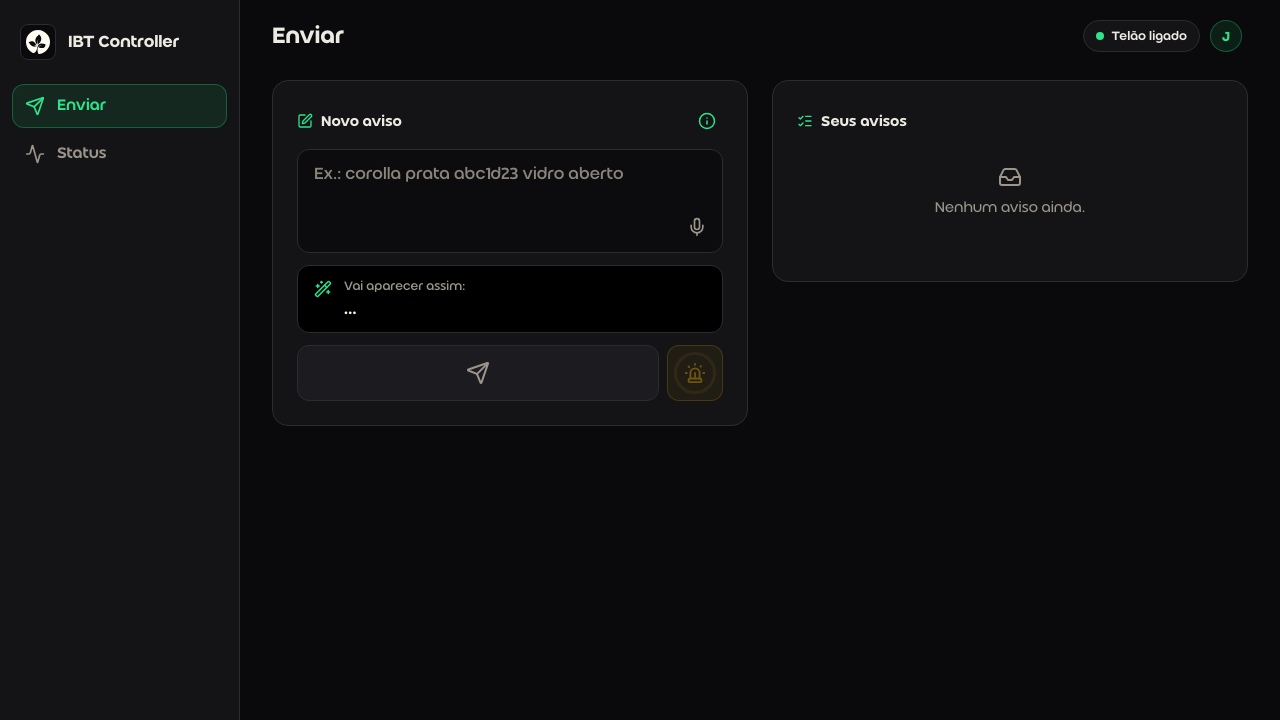
Test: Shell › Esc fecha o menu
Click the button named "Conta" at (1226, 36), box [1204,14,1248,58]
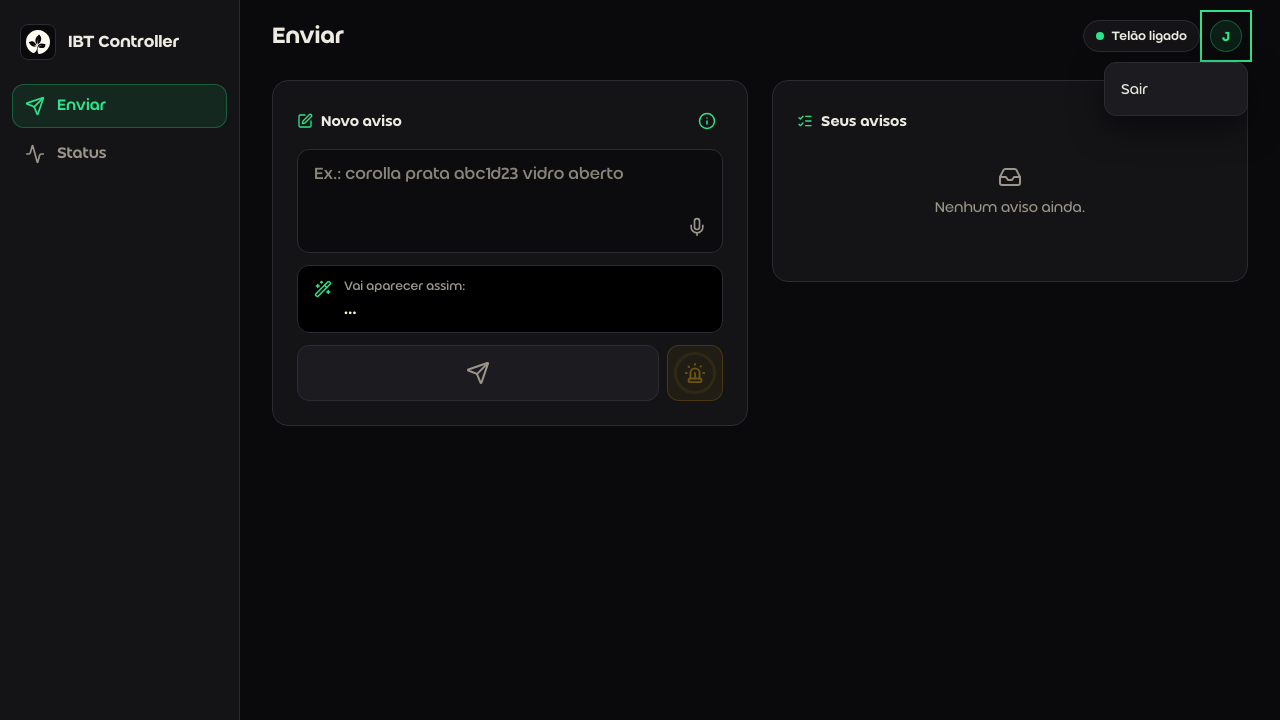
Expected: the menu is shown, [1104,62,1248,116]
Press Escape
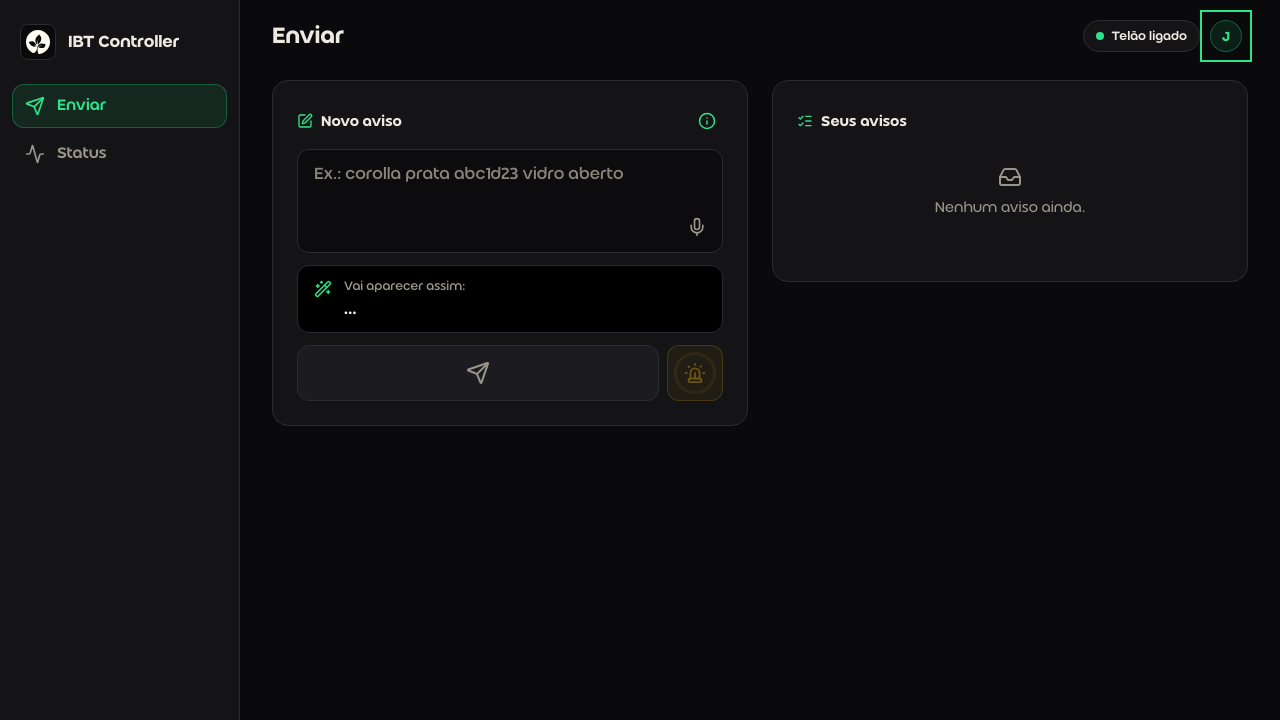
Expected: the menu is gone
